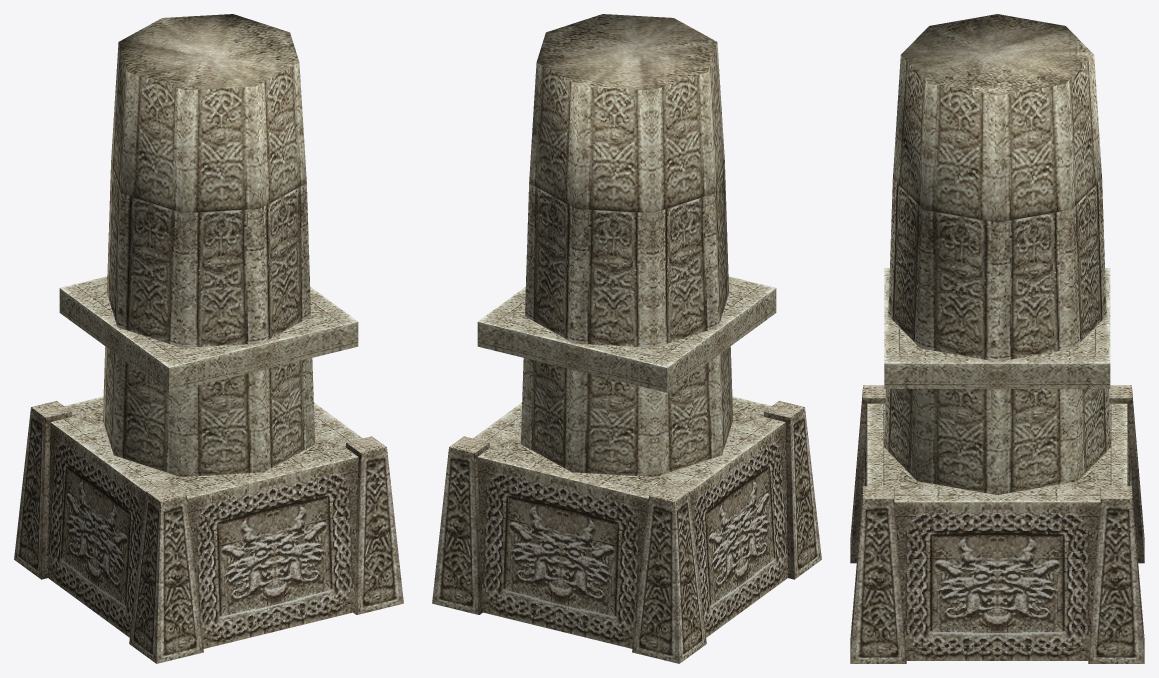
Rendered from general_obj_bigtoewr04.fbx.
The picture shows the model from 3 angles, left to right: view 1: azimuth 30°, elevation 25°; view 2: azimuth 150°, elevation 25°; view 3: azimuth 270°, elevation 25°; orthographic projection. The views are drawn at different scales.
Visible parts, largest first — view 1: Sphere01; view 2: Sphere01; view 3: Sphere01.
Boxes of the visible parts, left/top/right/bottom form: Sphere01: left=14, top=14, right=403, bottom=663; Sphere01: left=432, top=14, right=821, bottom=663; Sphere01: left=850, top=14, right=1144, bottom=663.
Size of the model in its own units: 5.22 by 10.68 by 5.21.
